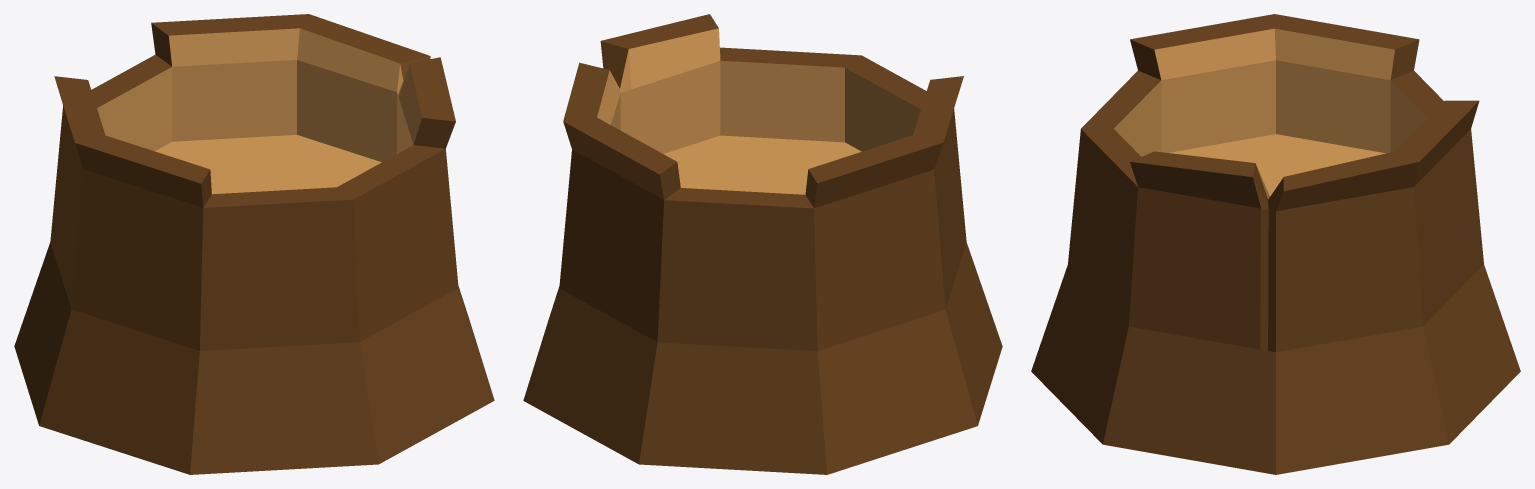
File: TRONCO.fbx
3 renders of one model, left to right at view 1: azimuth 30°, elevation 25°; view 2: azimuth 150°, elevation 25°; view 3: azimuth 270°, elevation 25°, orthographic.
Parts seen in each view (by area): view 1: Circle.001; view 2: Circle.001; view 3: Circle.001.
Part boxes in pixels (bbox=[...]): Circle.001: bbox=[14, 14, 494, 474]; Circle.001: bbox=[523, 14, 1002, 474]; Circle.001: bbox=[1031, 14, 1520, 474].
Bounding box in the file's own units: 302 × 189 × 302.
